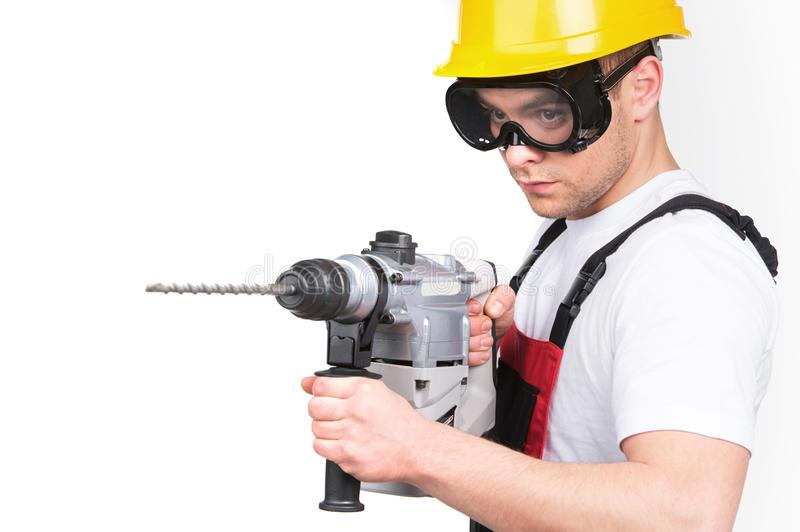helmet: (428, 1, 704, 79)
